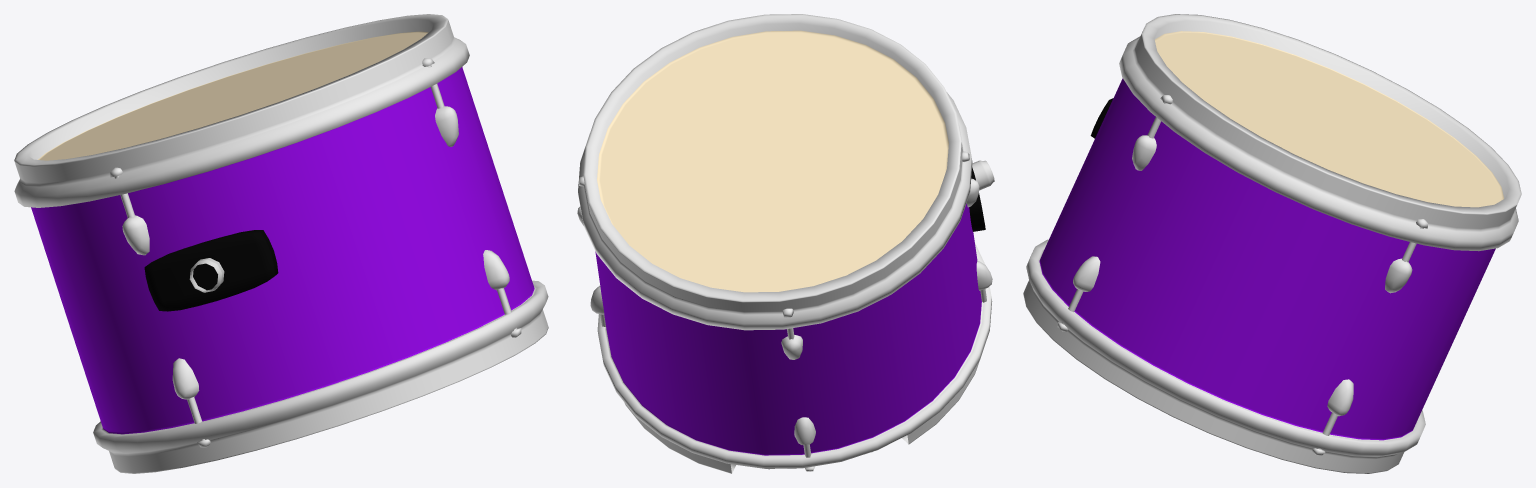
File: HighTom.fbx
3 renders of one model, left to right at view 1: azimuth 30°, elevation 25°; view 2: azimuth 150°, elevation 25°; view 3: azimuth 270°, elevation 25°, orthographic. The views are drawn at different scales.
Visible parts, largest first — view 1: BassDrum_LOD0.001; view 2: BassDrum_LOD0.001; view 3: BassDrum_LOD0.001.
Part boxes in pixels (x1=…): BassDrum_LOD0.001: x1=14, y1=14, x2=548, y2=473; BassDrum_LOD0.001: x1=577, y1=14, x2=994, y2=473; BassDrum_LOD0.001: x1=1023, y1=14, x2=1521, y2=473.
Size of what is drawn, in the model's own units: 199 by 192 by 217.
